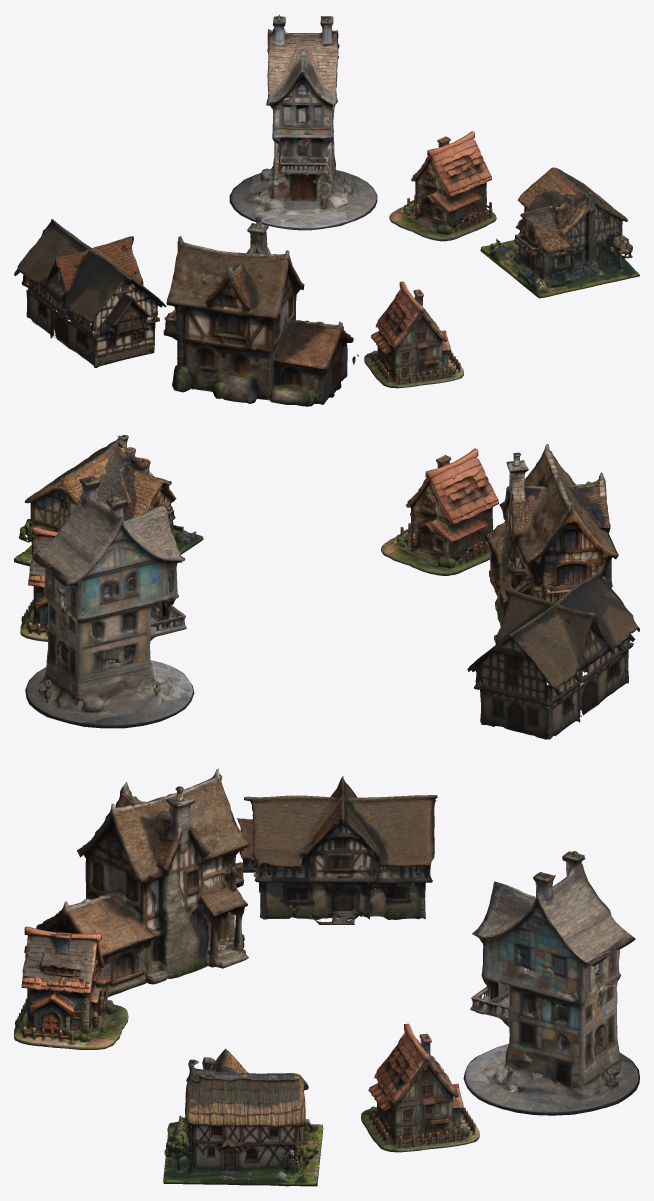
File: city-1-houses.comp.glb
3 views of the same model, one above another, from view 1: azimuth 30°, elevation 25°; view 2: azimuth 150°, elevation 25°; view 3: azimuth 270°, elevation 25° (orthographic). The views are drawn at different scales.
Parts seen in each view (by area): view 1: city-1-houses-group; view 2: city-1-houses-group; view 3: city-1-houses-group.
Boxes of the visible parts, x1,y1,x2,y2 form: city-1-houses-group: [14, 14, 639, 406]; city-1-houses-group: [14, 435, 639, 739]; city-1-houses-group: [14, 768, 639, 1186].
Bounding box in the file's own units: 65.7 × 22.42 × 56.49.
Materials: 5 (5 with a texture image).
